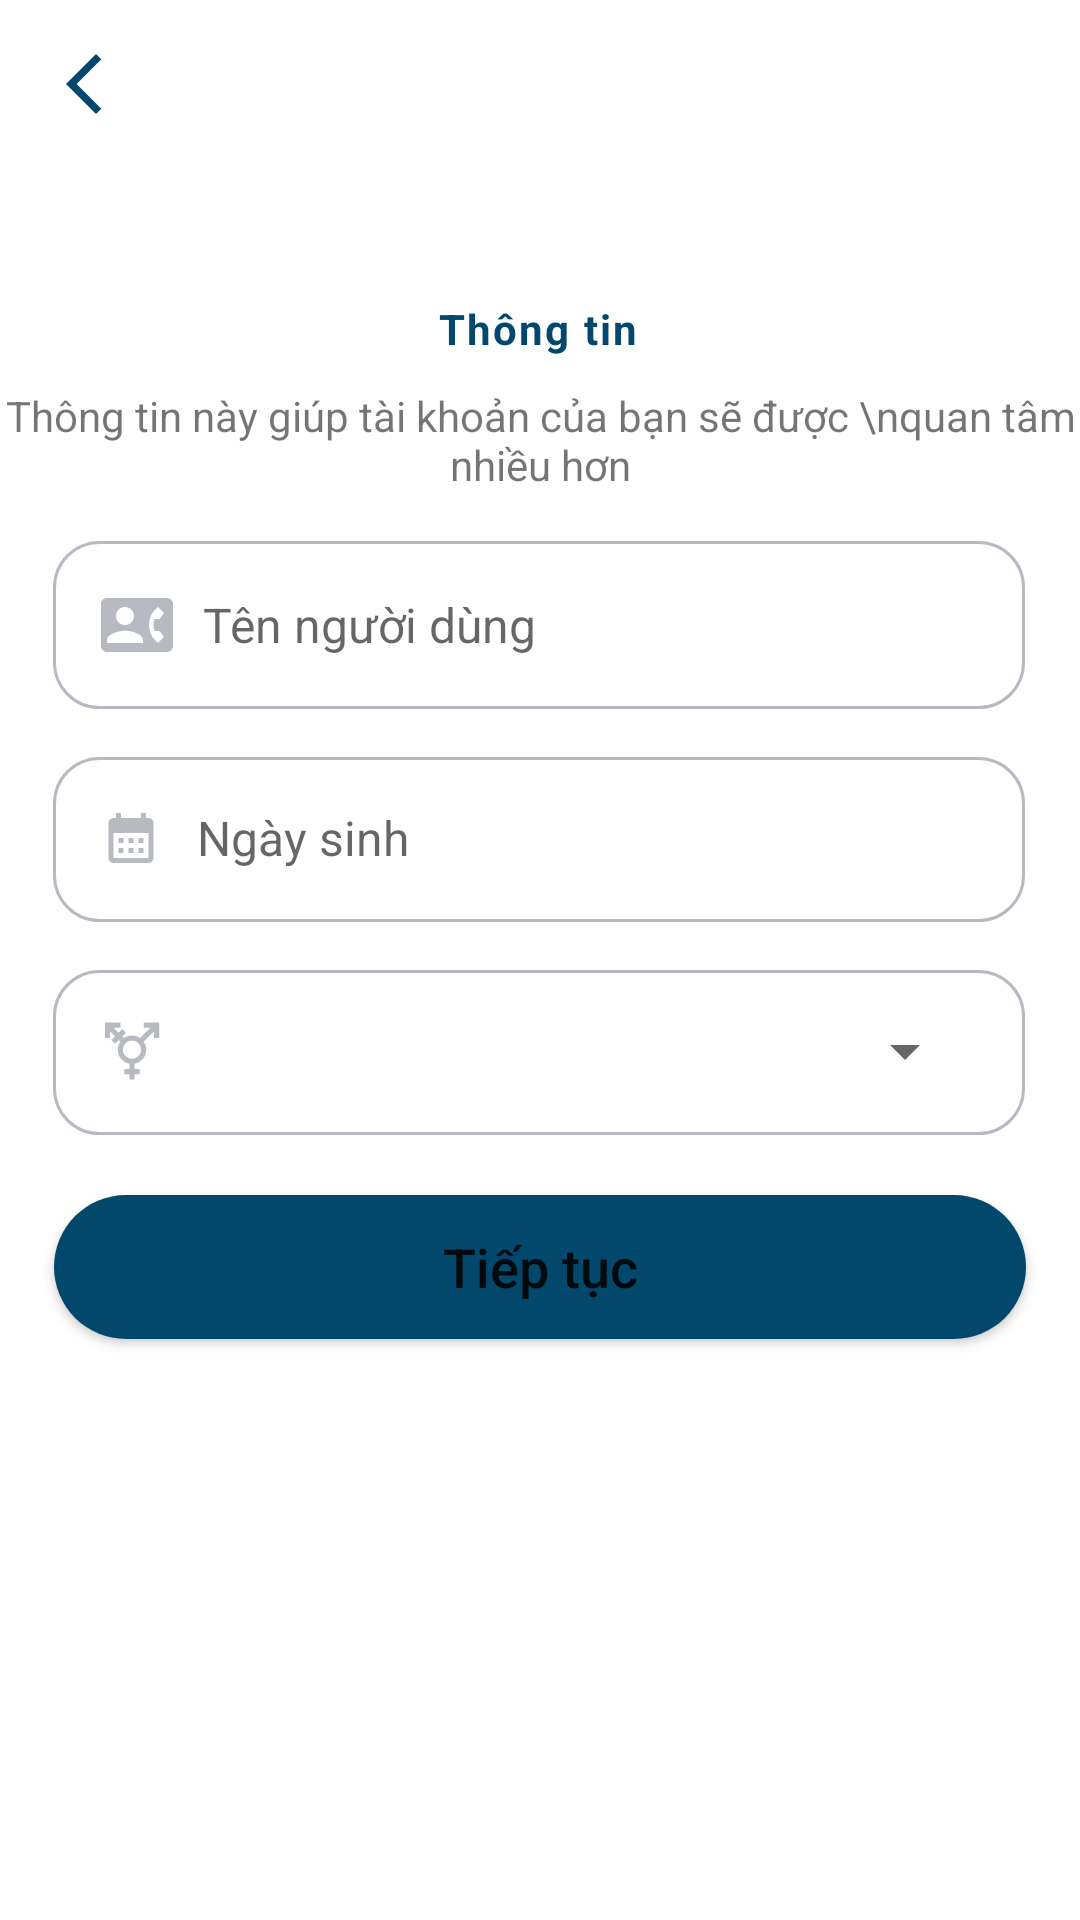

Point at icon controls on the screen. Image size 1080px×1920px, points as point (x, y).
back: point (83, 84)
date: point (131, 838)
gender: point (132, 1051)
